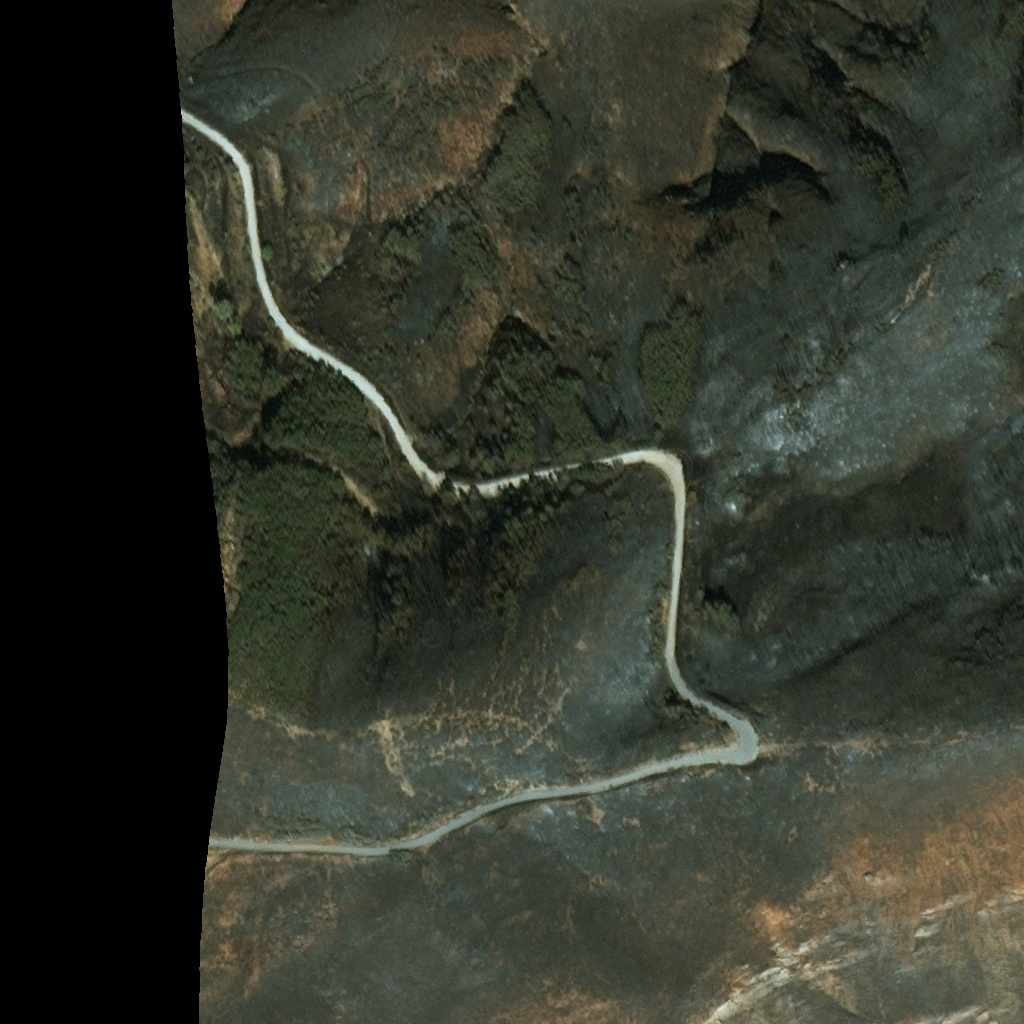3 destroyed: (179, 70, 190, 81)
